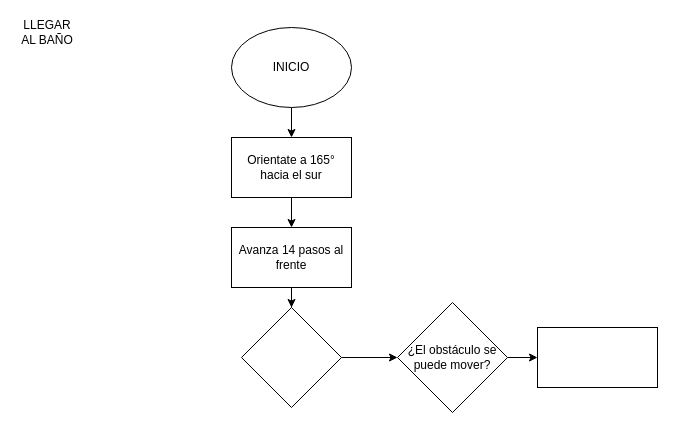
The diagram is 675 pixels wide and 430 high, and some of its shapes have lost their labels. Here are the shapes that lost their labels. From the top down, the centre of each, then its label:
At (291,357): "¿Hay un obstáculo?".
At (597,357): "Movemos el obstáculo del camino que vamos a transitar".
